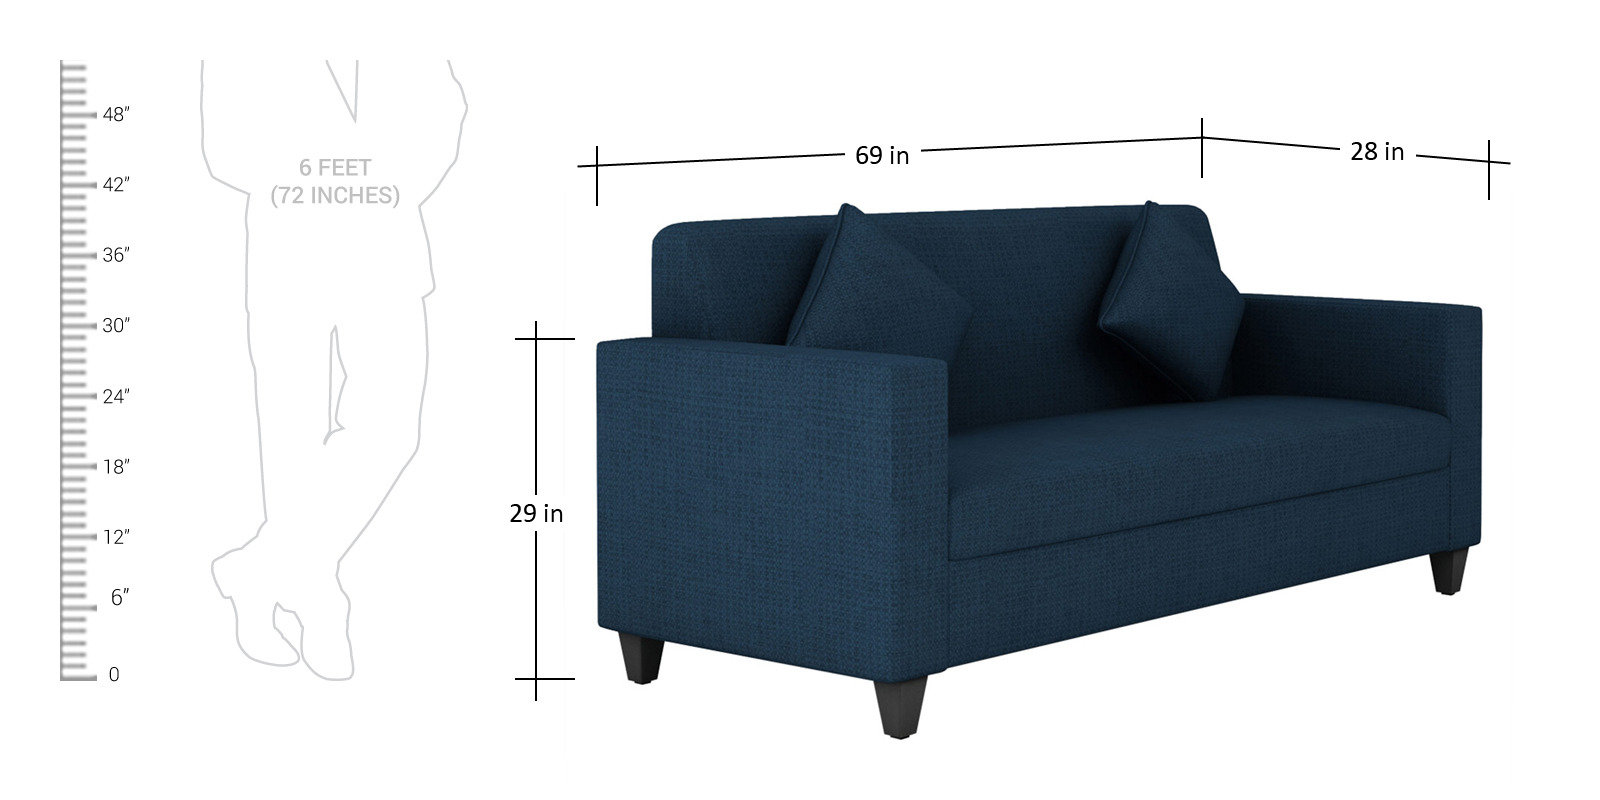Cooper Three Seater Sofa in Royal Blue Colour by ARRA: (580, 211, 1494, 711)
